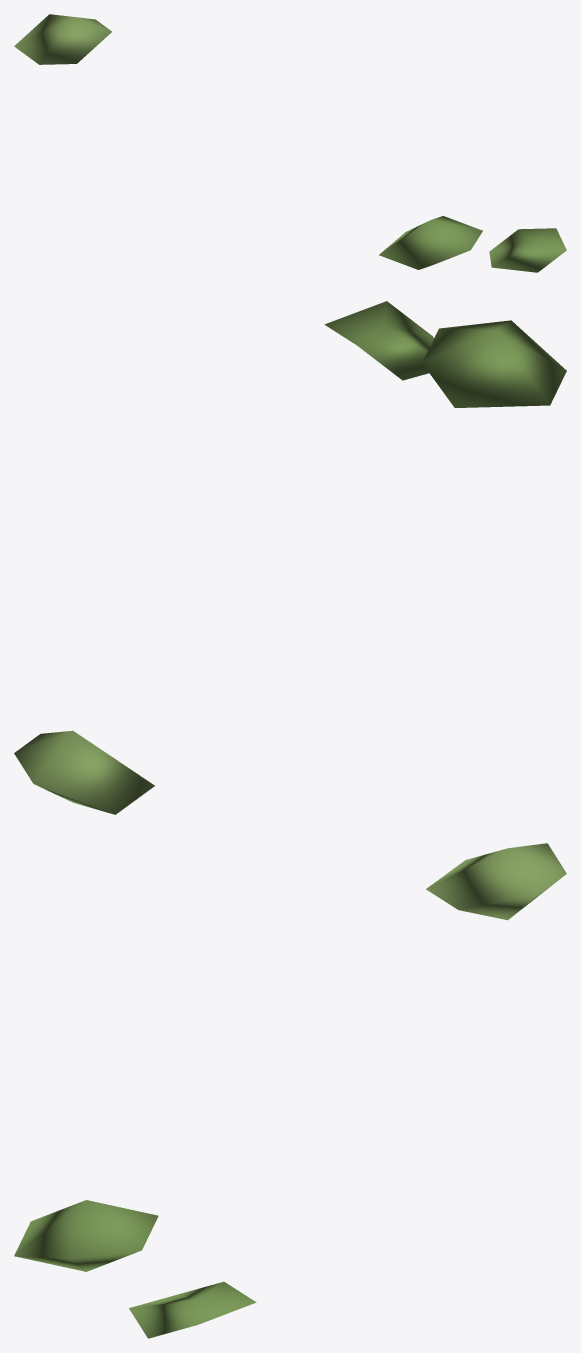
File: canopy-2-1-0.glb
3 views of the same model, one above another, from view 1: azimuth 30°, elevation 25°; view 2: azimuth 150°, elevation 25°; view 3: azimuth 330°, elevation 25° (orthographic). The views are drawn at different scales.
Bounding box in the file's own units: 35 × 10 × 110.
1 material, 1 textured.
